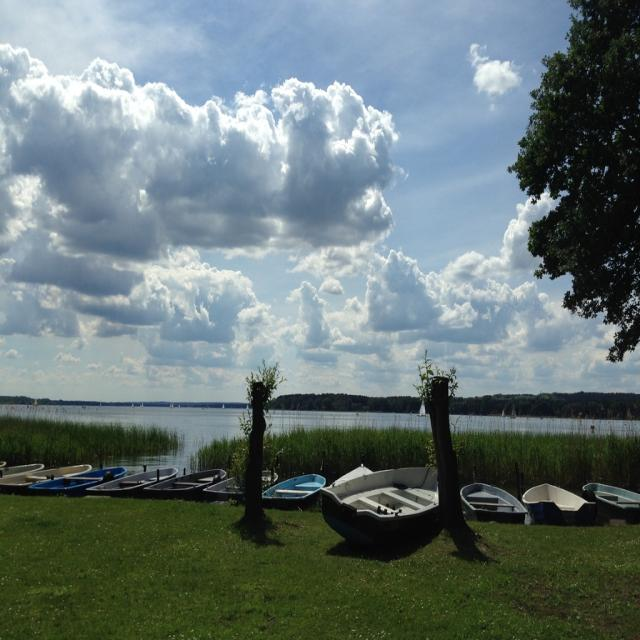Boat: (323, 421, 465, 541), (198, 442, 278, 520), (153, 441, 238, 504), (2, 453, 110, 498), (264, 454, 332, 518), (86, 455, 180, 500), (522, 474, 600, 524), (41, 460, 132, 502), (459, 475, 532, 521), (582, 466, 640, 522)
